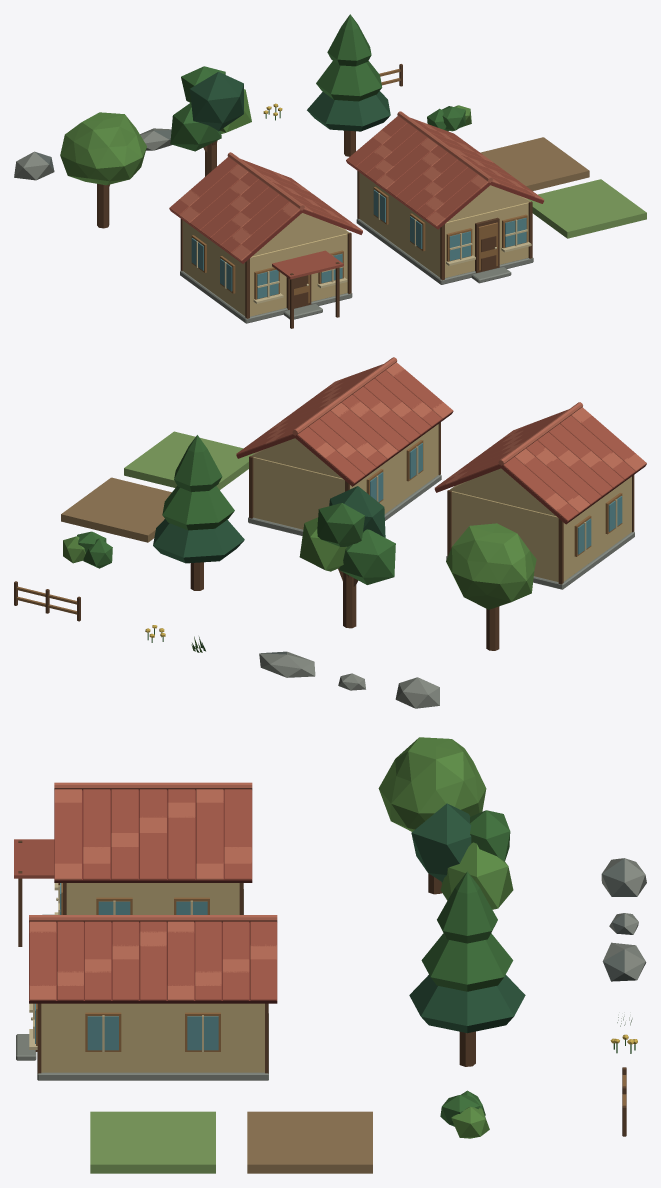
The model's file is riverside-diorama-kit.glb.
3 renders of one model, top to bottom at view 1: azimuth 30°, elevation 25°; view 2: azimuth 150°, elevation 25°; view 3: azimuth 270°, elevation 25°, orthographic. The views are drawn at different scales.
Parts seen in each view (by area): view 1: GEO-RD-house-gable, GEO-RD-house-long, GEO-RD-tree-pine, GEO-RD-tree-round, GEO-RD-tree-cluster, GEO-RD-ground-grass, GEO-RD-ground-earth, GEO-RD-rock-1, GEO-RD-shrub, GEO-RD-rock-3; view 2: GEO-RD-house-long, GEO-RD-house-gable, GEO-RD-tree-pine, GEO-RD-tree-cluster, GEO-RD-tree-round, GEO-RD-ground-earth, GEO-RD-ground-grass, GEO-RD-shrub, GEO-RD-rock-3, GEO-RD-rock-1, GEO-RD-fence-3m; view 3: GEO-RD-house-long, GEO-RD-house-gable, GEO-RD-tree-pine, GEO-RD-ground-grass, GEO-RD-ground-earth, GEO-RD-tree-round, GEO-RD-tree-cluster, GEO-RD-shrub, GEO-RD-rock-1, GEO-RD-rock-3.
Part boxes in pixels (x1=…): GEO-RD-house-gable: x1=169, y1=152, x2=362, y2=328; GEO-RD-house-long: x1=346, y1=111, x2=543, y2=284; GEO-RD-tree-pine: x1=307, y1=14, x2=390, y2=156; GEO-RD-tree-round: x1=60, y1=112, x2=146, y2=228; GEO-RD-tree-cluster: x1=170, y1=66, x2=251, y2=176; GEO-RD-ground-grass: x1=527, y1=179, x2=646, y2=238; GEO-RD-ground-earth: x1=480, y1=137, x2=589, y2=190; GEO-RD-rock-1: x1=14, y1=151, x2=54, y2=180; GEO-RD-shrub: x1=427, y1=105, x2=471, y2=131; GEO-RD-rock-3: x1=140, y1=128, x2=172, y2=150; GEO-RD-house-long: x1=236, y1=357, x2=453, y2=535; GEO-RD-house-gable: x1=434, y1=402, x2=646, y2=589; GEO-RD-tree-pine: x1=153, y1=435, x2=244, y2=590; GEO-RD-tree-cluster: x1=299, y1=486, x2=395, y2=628; GEO-RD-tree-round: x1=446, y1=523, x2=536, y2=650; GEO-RD-ground-earth: x1=61, y1=477, x2=171, y2=542; GEO-RD-ground-grass: x1=124, y1=431, x2=254, y2=489; GEO-RD-shrub: x1=63, y1=531, x2=112, y2=568; GEO-RD-rock-3: x1=259, y1=651, x2=315, y2=677; GEO-RD-rock-1: x1=395, y1=677, x2=439, y2=708; GEO-RD-fence-3m: x1=14, y1=581, x2=80, y2=621; GEO-RD-house-long: x1=16, y1=915, x2=277, y2=1080; GEO-RD-house-gable: x1=14, y1=782, x2=252, y2=946; GEO-RD-tree-pine: x1=409, y1=871, x2=525, y2=1066; GEO-RD-ground-grass: x1=90, y1=1111, x2=215, y2=1173; GEO-RD-ground-earth: x1=247, y1=1111, x2=372, y2=1173; GEO-RD-tree-round: x1=378, y1=737, x2=486, y2=894; GEO-RD-tree-cluster: x1=411, y1=803, x2=513, y2=909; GEO-RD-shrub: x1=440, y1=1090, x2=489, y2=1138; GEO-RD-rock-1: x1=601, y1=858, x2=646, y2=896; GEO-RD-rock-3: x1=602, y1=942, x2=646, y2=981.
Size of the model in its own units: 22.86 by 6.94 by 20.14.
